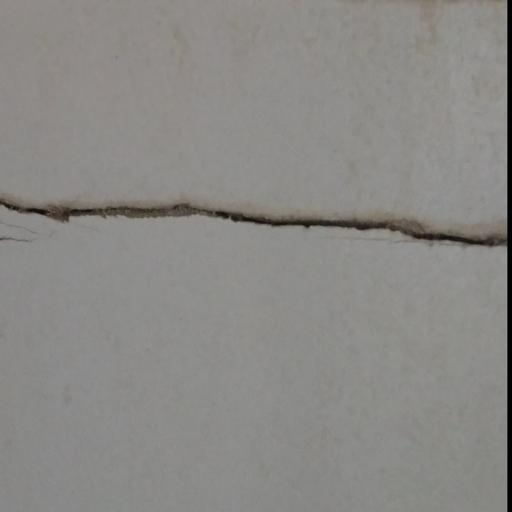major_crack: (0, 170, 512, 268)
